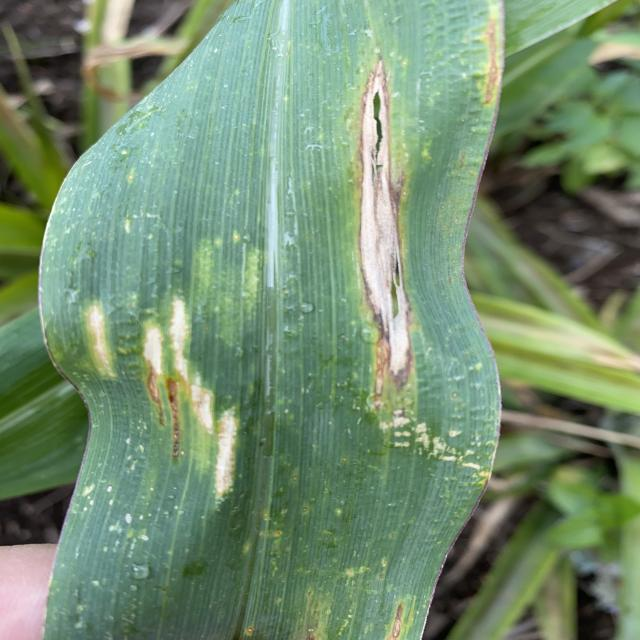Corn_Leaf_Blight: (38, 30, 514, 640)
